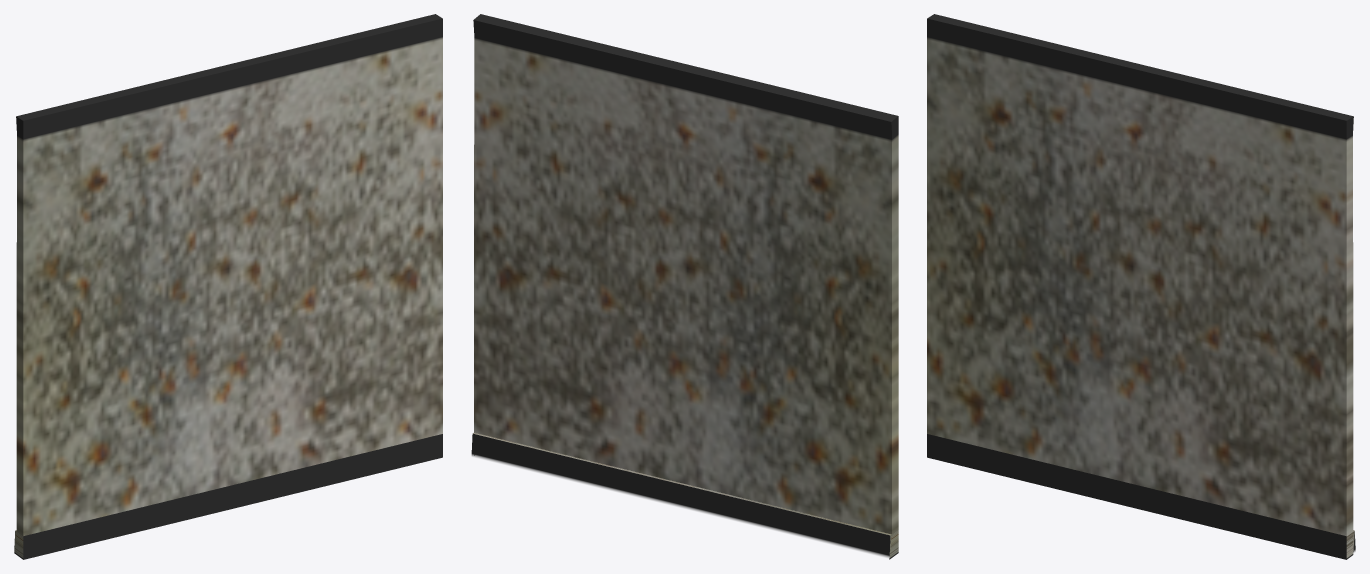
File: rustywall.glb
3 views of the same model, side by side, from view 1: azimuth 30°, elevation 25°; view 2: azimuth 150°, elevation 25°; view 3: azimuth 330°, elevation 25° (orthographic).
Visible parts, largest first — view 1: rusty wall segment; view 2: rusty wall segment; view 3: rusty wall segment.
Part boxes in pixels (x1=…): rusty wall segment: x1=14, y1=14, x2=442, y2=559; rusty wall segment: x1=471, y1=14, x2=898, y2=559; rusty wall segment: x1=927, y1=14, x2=1355, y2=559.
Bounding box in the file's own units: 4 × 4 × 0.1508.
Materials: 1 (1 with a texture image).
